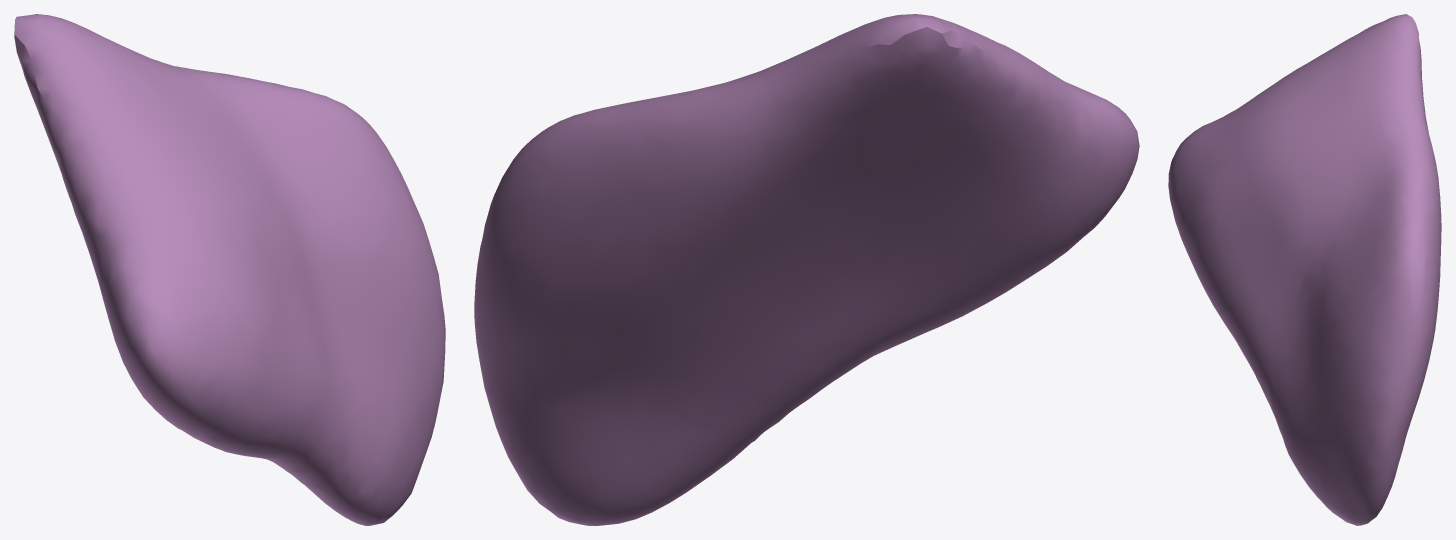
3 renders of one model, left to right at view 1: azimuth 30°, elevation 25°; view 2: azimuth 150°, elevation 25°; view 3: azimuth 270°, elevation 25°, orthographic. The views are drawn at different scales.
Visible parts, largest first — view 1: 左侧中央小叶翼; view 2: 左侧中央小叶翼; view 3: 左侧中央小叶翼.
Part boxes in pixels (<box>): 左侧中央小叶翼: <box>14,14,445,525</box>; 左侧中央小叶翼: <box>474,14,1139,525</box>; 左侧中央小叶翼: <box>1168,14,1441,525</box>.
Size of the model in its own units: 0.0256 by 0.0303 by 0.019.
